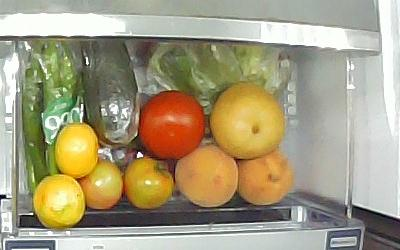peach: (173, 144, 238, 207), (235, 148, 292, 205)
pear: (208, 80, 285, 159)
tangerine: (32, 172, 85, 228), (53, 121, 99, 178)
tomato: (137, 89, 205, 159), (122, 154, 174, 209), (76, 157, 123, 210)
